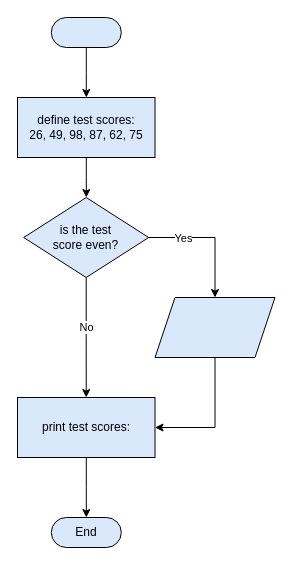
Image size: 293x565. Some labels were removed from this diagram. The shapes that lost their labels are listed below. From the top down, each one's box as (x1, y1, x2, y2) in pixels, then its label:
(50, 16, 121, 48): Start
(154, 296, 275, 358): add up all scores
